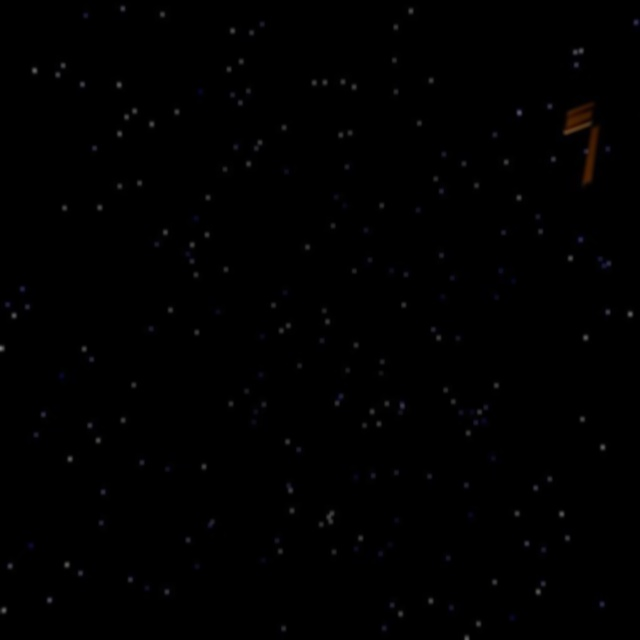medium_debris: (553, 79, 640, 185)
